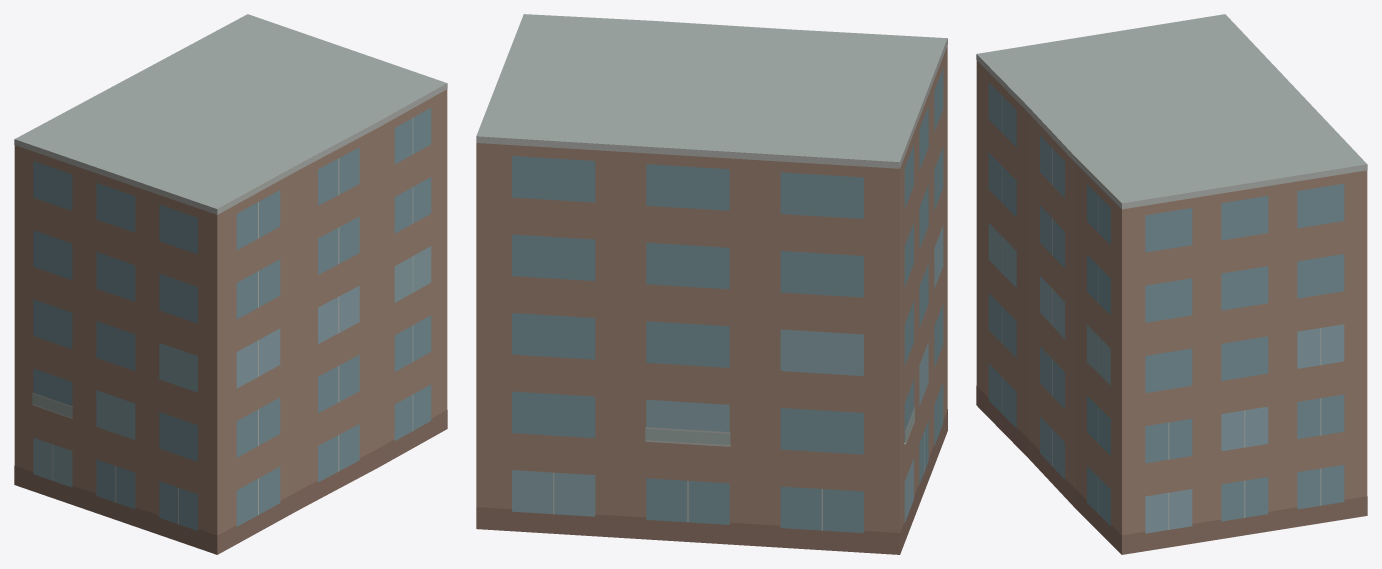
File: survey-upis-32850463.glb
3 views of the same model, side by side, from view 1: azimuth 30°, elevation 25°; view 2: azimuth 150°, elevation 25°; view 3: azimuth 270°, elevation 25° (orthographic). The views are drawn at different scales.
Parts seen in each view (by area): view 1: survey-upis-32850463.tmp; view 2: survey-upis-32850463.tmp; view 3: survey-upis-32850463.tmp.
Boxes of the visible parts, bbox=[...] form: survey-upis-32850463.tmp: bbox=[14, 14, 447, 554]; survey-upis-32850463.tmp: bbox=[476, 14, 947, 554]; survey-upis-32850463.tmp: bbox=[976, 14, 1367, 554].
Size of the model in its own units: 16.78 by 14.5 by 14.63.
